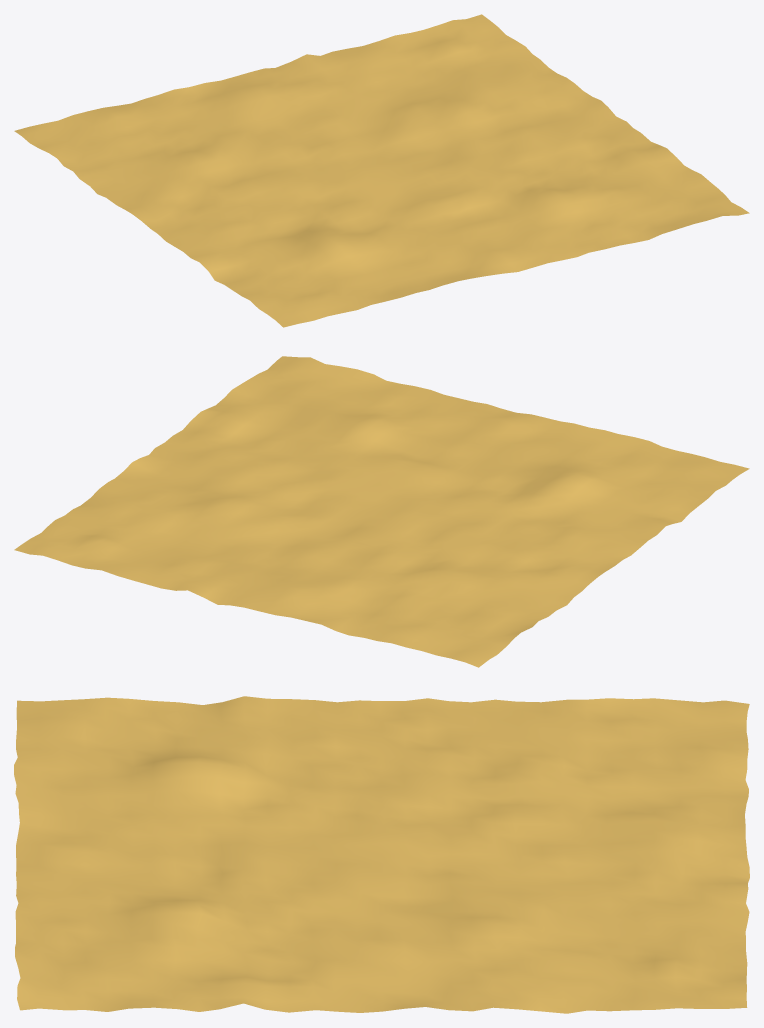
Rendered from beach.fbx.
3 renders of one model, top to bottom at view 1: azimuth 30°, elevation 25°; view 2: azimuth 150°, elevation 25°; view 3: azimuth 270°, elevation 25°, orthographic. The views are drawn at different scales.
Visible parts, largest first — view 1: beach; view 2: beach; view 3: beach.
Boxes of the visible parts, box(x1,y1,x2,y2) form: beach: box(14, 14, 749, 327); beach: box(14, 356, 749, 667); beach: box(14, 696, 749, 1013).
Bounding box in the file's own units: 1659 × 46.02 × 1657.
